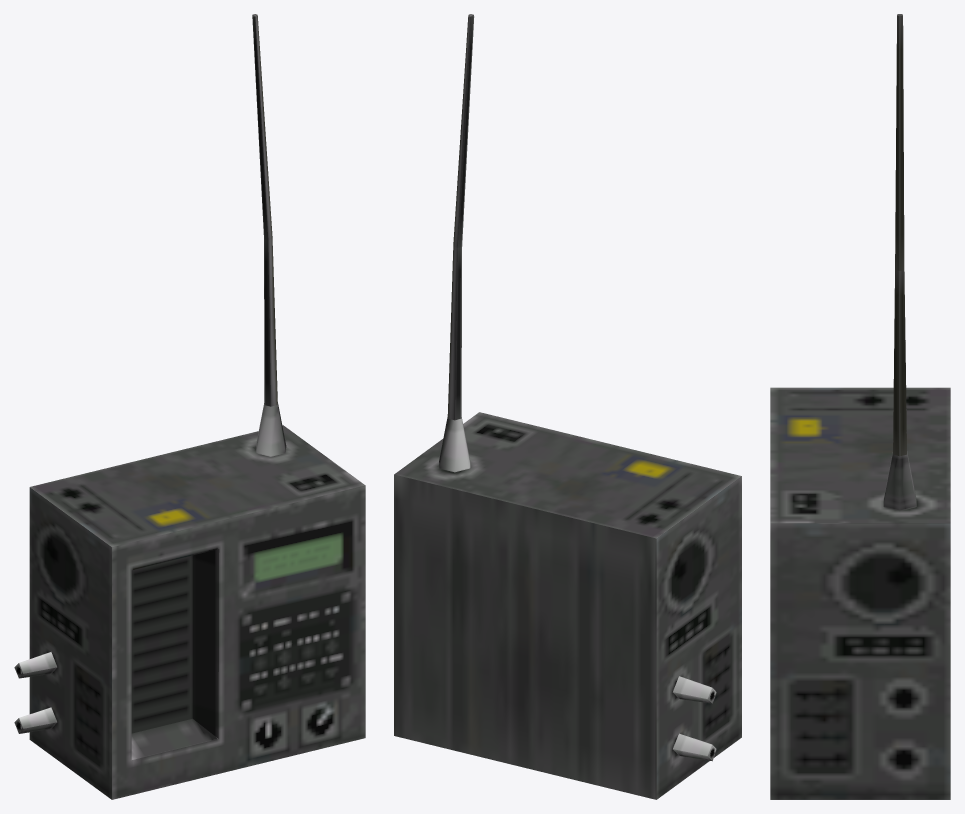
File: Radio_Set.glb
3 views of the same model, side by side, from view 1: azimuth 30°, elevation 25°; view 2: azimuth 150°, elevation 25°; view 3: azimuth 270°, elevation 25° (orthographic). The views are drawn at different scales.
Parts seen in each view (by area): view 1: RADIO_SET; view 2: RADIO_SET; view 3: RADIO_SET.
Part boxes in pixels (x1,y1,x2,y2): RADIO_SET: (14,14,365,799); RADIO_SET: (394,14,741,799); RADIO_SET: (770,14,950,799).
Size of the model in its own units: 0.539 by 1.25 by 0.269.
1 material, 1 textured.
